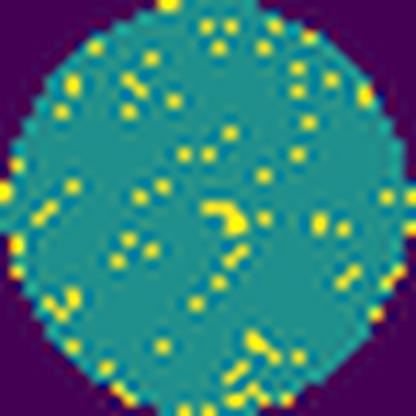Center: (198, 193, 252, 233)
